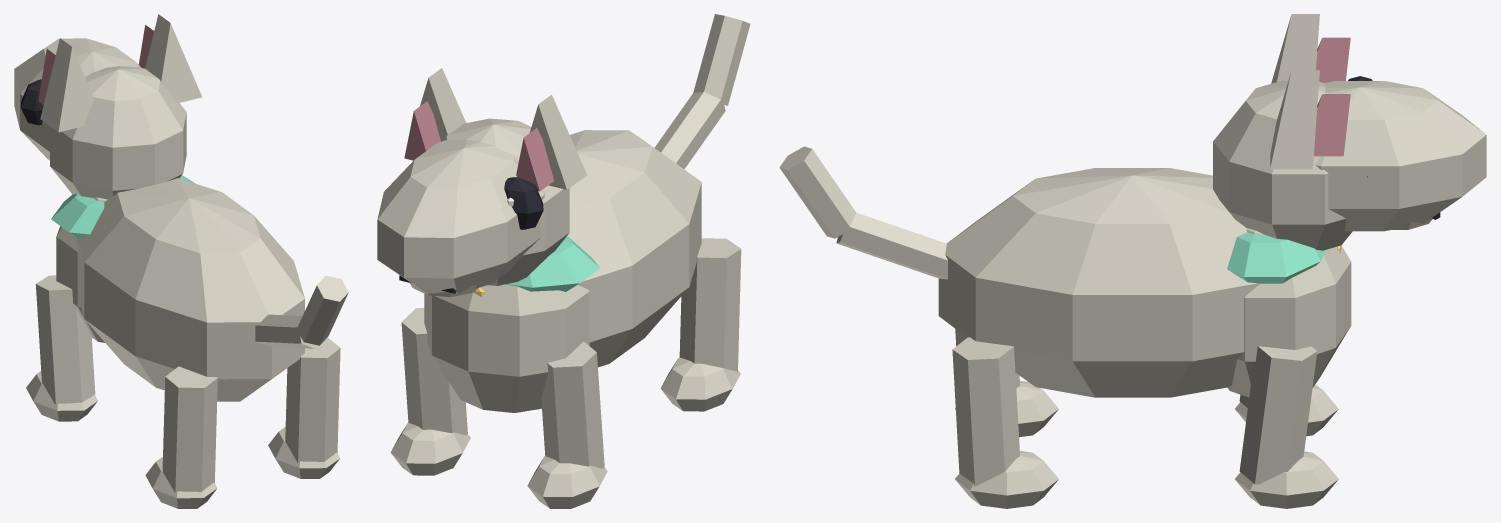
The model's file is bull_terrier.glb.
The picture shows the model from 3 angles, left to right: view 1: azimuth 30°, elevation 25°; view 2: azimuth 150°, elevation 25°; view 3: azimuth 270°, elevation 25°; orthographic projection. The views are drawn at different scales.
Visible parts, largest first — view 1: BodyMesh, HeadMesh; view 2: BodyMesh, HeadMesh; view 3: BodyMesh, HeadMesh.
Boxes of the visible parts, bbox=[...] form: BodyMesh: bbox=[26, 175, 348, 508]; HeadMesh: bbox=[14, 14, 201, 199]; BodyMesh: bbox=[390, 14, 750, 508]; HeadMesh: bbox=[377, 68, 586, 297]; BodyMesh: bbox=[779, 146, 1351, 508]; HeadMesh: bbox=[1213, 14, 1486, 250].
Bounding box in the file's own units: 0.514 × 0.995 × 1.49.
